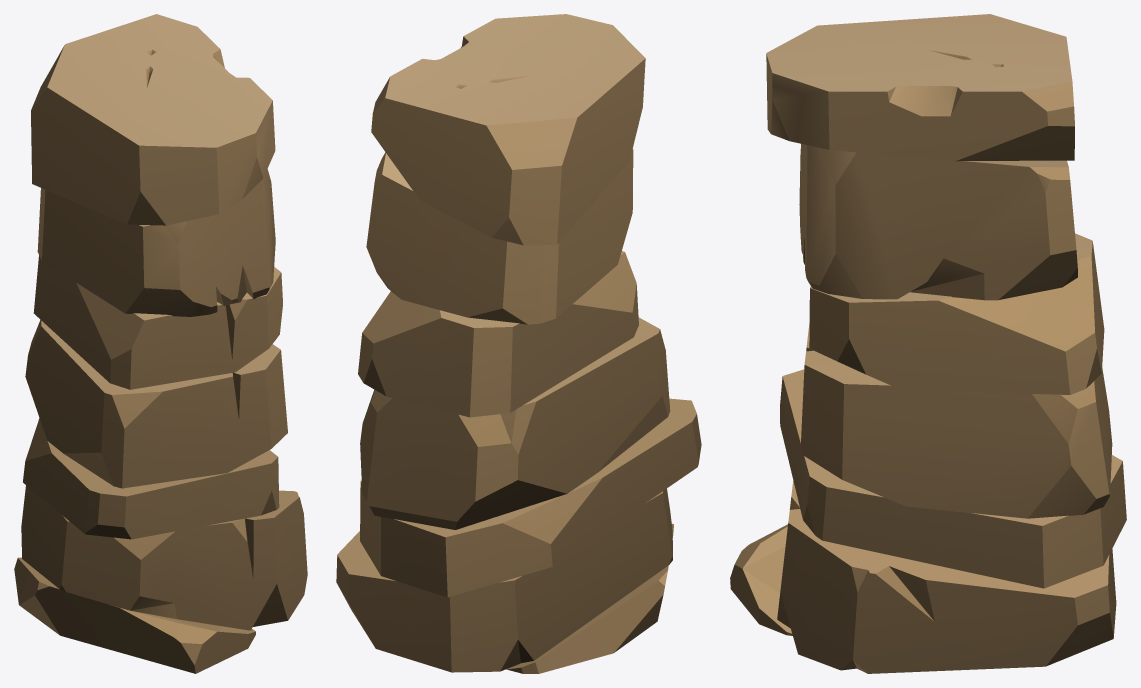
File: Cliff_Vertical_1B.fbx
3 views of the same model, side by side, from view 1: azimuth 30°, elevation 25°; view 2: azimuth 150°, elevation 25°; view 3: azimuth 270°, elevation 25° (orthographic). The views are drawn at different scales.
Parts seen in each view (by area): view 1: Cliff_Vertical_1B; view 2: Cliff_Vertical_1B; view 3: Cliff_Vertical_1B.
Part boxes in pixels (x1,y1,x2,y2): Cliff_Vertical_1B: (14,14,307,673); Cliff_Vertical_1B: (336,14,701,673); Cliff_Vertical_1B: (730,14,1126,673).
Bounding box in the file's own units: 1002 × 2021 × 1275.
